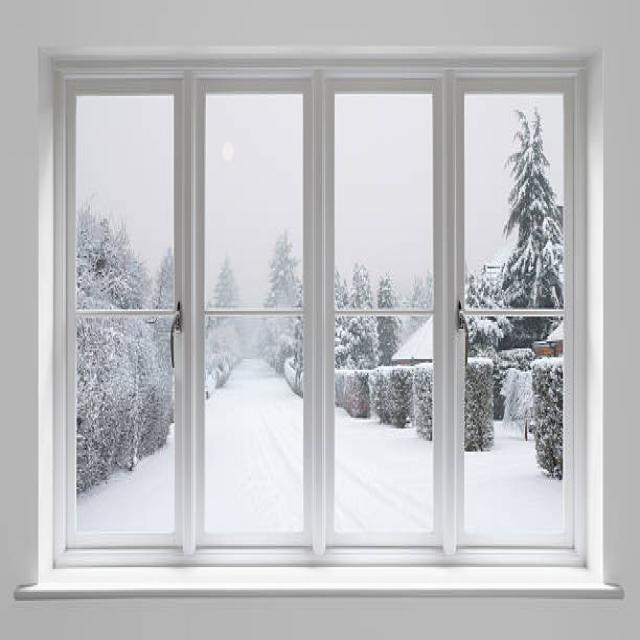Window: (53, 64, 588, 572)
